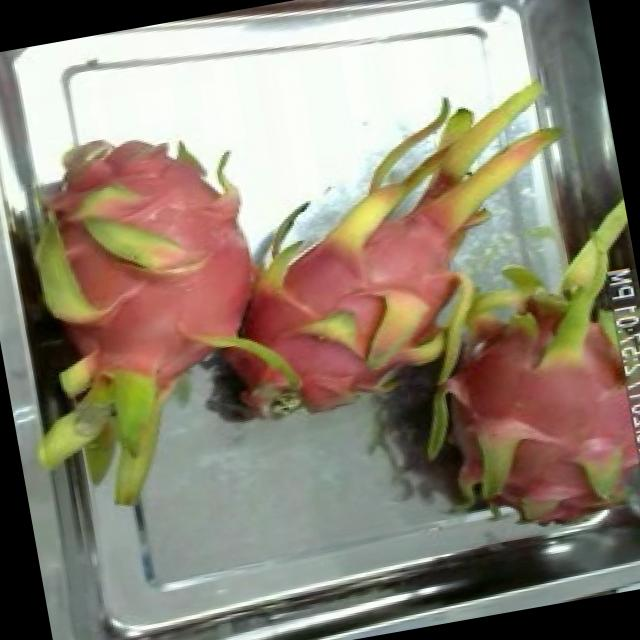Fruit: (358, 368, 466, 482)
